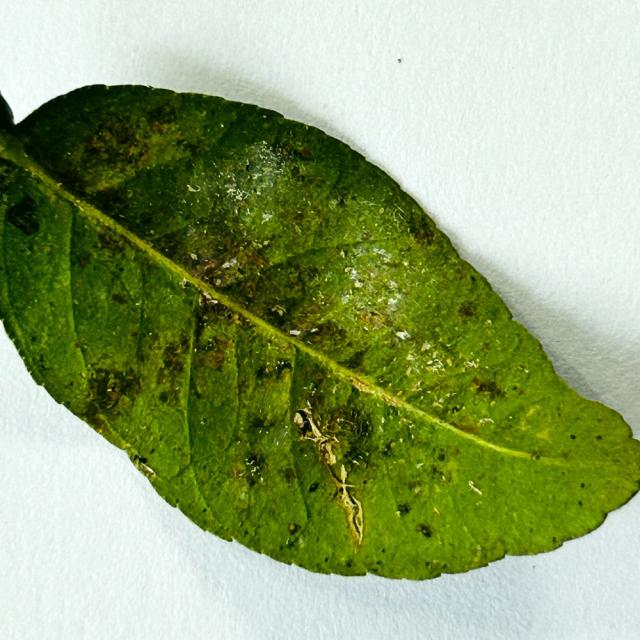Bacterial_Blight: (376, 420, 486, 545), (176, 225, 263, 294), (408, 344, 489, 416), (80, 113, 157, 179), (281, 291, 351, 336), (514, 399, 575, 446), (87, 366, 135, 411), (86, 185, 138, 225), (326, 405, 371, 445), (5, 194, 42, 236), (150, 346, 193, 382), (195, 289, 238, 323), (297, 319, 346, 347), (86, 128, 126, 162), (194, 344, 230, 375), (208, 260, 242, 288), (341, 442, 372, 472), (159, 346, 187, 379), (357, 309, 393, 331), (193, 257, 225, 281), (473, 377, 505, 400), (277, 142, 312, 163), (342, 347, 369, 370), (242, 451, 265, 478), (410, 223, 436, 244), (450, 419, 479, 436), (255, 362, 279, 381), (250, 416, 274, 433), (89, 413, 108, 434), (245, 250, 267, 268), (458, 302, 481, 318), (350, 377, 373, 393), (274, 359, 293, 378), (533, 425, 553, 442), (150, 119, 168, 134), (242, 279, 257, 296), (304, 266, 321, 281), (416, 523, 433, 538), (291, 209, 307, 224), (381, 441, 396, 457), (425, 560, 445, 572), (138, 146, 152, 163), (106, 386, 121, 401), (111, 292, 128, 305), (283, 467, 297, 482), (158, 389, 172, 404), (298, 146, 313, 159), (396, 503, 411, 515), (335, 194, 347, 207), (288, 523, 300, 535), (232, 314, 244, 325), (308, 482, 320, 493), (285, 536, 297, 547), (314, 371, 325, 382), (436, 451, 447, 462), (246, 476, 256, 487), (0, 166, 10, 177), (450, 405, 461, 414), (138, 456, 148, 464), (198, 110, 207, 118), (413, 486, 422, 494), (531, 453, 541, 460), (126, 190, 134, 198), (31, 335, 38, 343), (245, 164, 251, 172), (569, 434, 576, 440), (346, 561, 352, 568), (596, 435, 603, 440), (578, 500, 583, 507), (552, 536, 557, 543), (379, 207, 384, 214), (580, 482, 585, 488), (74, 299, 79, 305), (149, 230, 155, 235), (381, 548, 386, 553)
Lemon: (0, 85, 639, 584)
